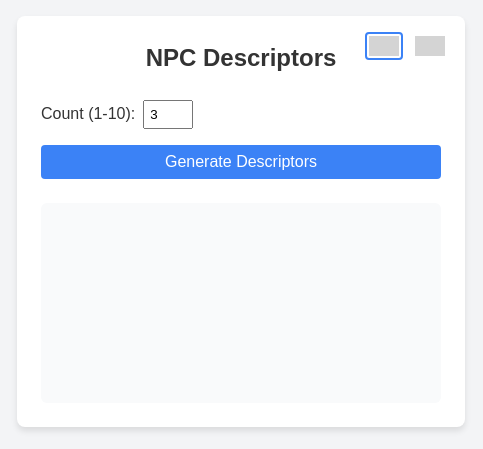
Test: App Component › copies descriptors to clipboard and shows success message
Step 1. Click the button "Generate Descriptors" → (241, 162), box x1=41 y1=145 x2=441 y2=179
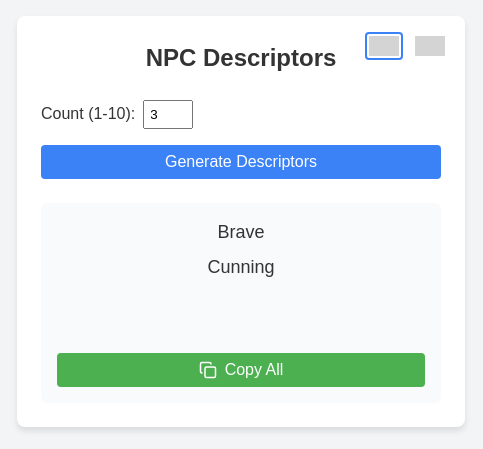
Step 2. Click the button "Copy All" → (241, 370), box x1=57 y1=353 x2=425 y2=387
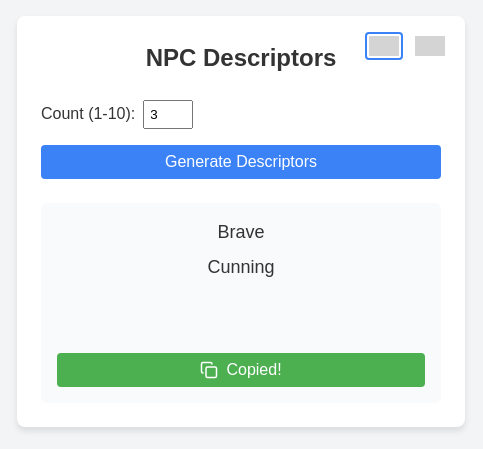
Result: the button "Copied!" is shown at x1=57 y1=353 x2=425 y2=387
